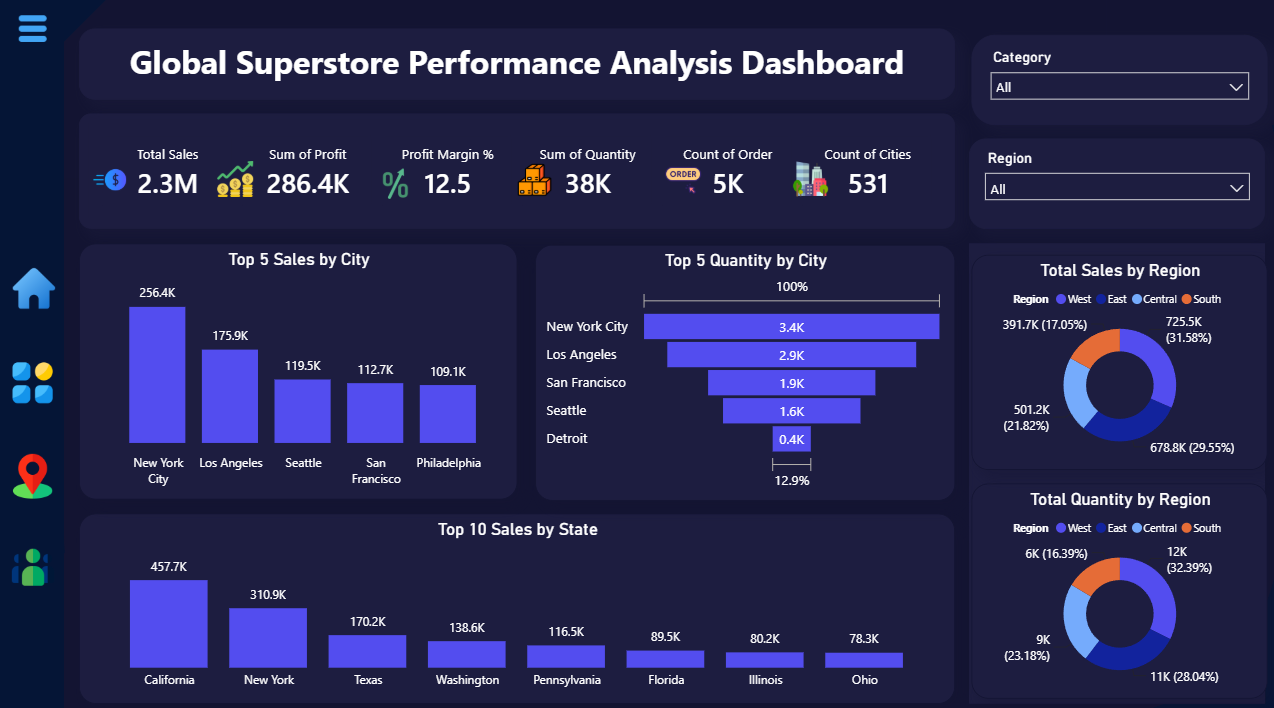

This screenshot's page, from the dashboard's own definition file:
{"tool":"powerbi","page":{"name":"Region","canvas":[1280,720],"ordinal":2},"visuals":[{"type":"shape","box":[65,0,1215,720],"z":0},{"type":"shape","box":[1093.8,578.8,172.5,128.8],"z":1000},{"type":"shape","box":[1107.5,0,172.5,128.8],"z":2000},{"type":"shape","box":[65,0,300,183.8],"z":3000},{"type":"cardVisual","fields":{"Data":["Sum(Data.Sales)","Sum(Data.Profit)","Data.Profit Margin %","Sum(Data.Quantity)","Count(Data.Order ID)","Count(Location.City)"]},"box":[80,117.5,876.2,115],"z":4000},{"type":"image","box":[11.2,16.2,45,32.5],"z":5000},{"type":"image","box":[11.2,456.2,45,47.5],"z":7000},{"type":"slicer","fields":{"Values":["Product.Category Image"]},"box":[972.5,38.8,296.2,90],"z":8000},{"type":"shape","box":[970,247.5,296.2,460],"z":9000},{"type":"shape","box":[65,503.8,300,216.2],"z":10000},{"type":"columnChart","title":"Top 10 Sales by State","fields":{"Y":["Sum(Data.Sales)"],"Category":["Location.State"]},"box":[80,517.5,876.2,190],"z":11000},{"type":"columnChart","title":"Top 5 Sales by City","fields":{"Category":["Location.City"],"Y":["Sum(Data.Sales)"]},"box":[80,247.5,438.8,256.2],"z":12000},{"type":"donutChart","title":"Total Quantity by Region","fields":{"Y":["Sum(Data.Quantity)"],"Category":["Location.Region"]},"box":[972.5,487.5,296.2,215],"z":13000},{"type":"donutChart","title":"Total Sales by Region","fields":{"Category":["Location.Region"],"Y":["Sum(Data.Sales)"]},"box":[972.5,258.8,296.2,215],"z":14000},{"type":"image","box":[80,165,61.2,37.5],"z":15000},{"type":"image","box":[215,165,42.5,36.2],"z":16000},{"type":"image","box":[380,172.5,32.5,30],"z":17000},{"type":"image","box":[518.8,166.2,33.8,35],"z":18000},{"type":"image","box":[663.8,166.2,41.2,36.2],"z":19000},{"type":"image","box":[791.4,165.3,41,36.2],"z":20000},{"type":"slicer","fields":{"Values":["Location.Region"]},"box":[970,142.5,296.2,90],"z":21000},{"type":"textbox","box":[80,32.5,876.2,71.2],"z":22000},{"type":"image","box":[11.2,360,45,53.8],"z":23000},{"type":"funnel","title":"Top 5 Quantity by City","fields":{"Category":["Location.City"],"Y":["Sum(Data.Quantity)"]},"box":[536.2,248.8,420,256.2],"z":24000},{"type":"image","box":[11.2,550,45,42.5],"z":25000},{"type":"image","box":[13.3,270.2,42.2,44.6],"z":25001}]}

Visuals, with their boxes on the page's 1280x720 design canvas (x1, y1, x2, y2). These are canvas units, not pixel positions in the 1274x708 screenshot, which may show the page scaled, cropped or inside an application window:
shape: Rect(65, 0, 1280, 720)
shape: Rect(1094, 579, 1266, 708)
shape: Rect(1108, 0, 1280, 129)
shape: Rect(65, 0, 365, 184)
cardVisual - Sum(Data.Sales) x Sum(Data.Profit): Rect(80, 118, 956, 232)
image: Rect(11, 16, 56, 49)
image: Rect(11, 456, 56, 504)
slicer - Product.Category Image: Rect(972, 39, 1269, 129)
shape: Rect(970, 248, 1266, 708)
shape: Rect(65, 504, 365, 720)
"Top 10 Sales by State" columnChart: Rect(80, 518, 956, 708)
"Top 5 Sales by City" columnChart: Rect(80, 248, 519, 504)
"Total Quantity by Region" donutChart: Rect(972, 488, 1269, 702)
"Total Sales by Region" donutChart: Rect(972, 259, 1269, 474)
image: Rect(80, 165, 141, 202)
image: Rect(215, 165, 258, 201)
image: Rect(380, 172, 412, 202)
image: Rect(519, 166, 553, 201)
image: Rect(664, 166, 705, 202)
image: Rect(791, 165, 832, 202)
slicer - Location.Region: Rect(970, 142, 1266, 232)
textbox: Rect(80, 32, 956, 104)
image: Rect(11, 360, 56, 414)
"Top 5 Quantity by City" funnel: Rect(536, 249, 956, 505)
image: Rect(11, 550, 56, 592)
image: Rect(13, 270, 56, 315)
